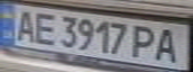1: (90, 18, 112, 54)
3: (54, 14, 78, 50)
7: (109, 19, 130, 56)
9: (72, 16, 96, 52)
A: (151, 26, 184, 63), (9, 7, 42, 43)
E: (30, 9, 60, 46)
P: (127, 22, 160, 60)
